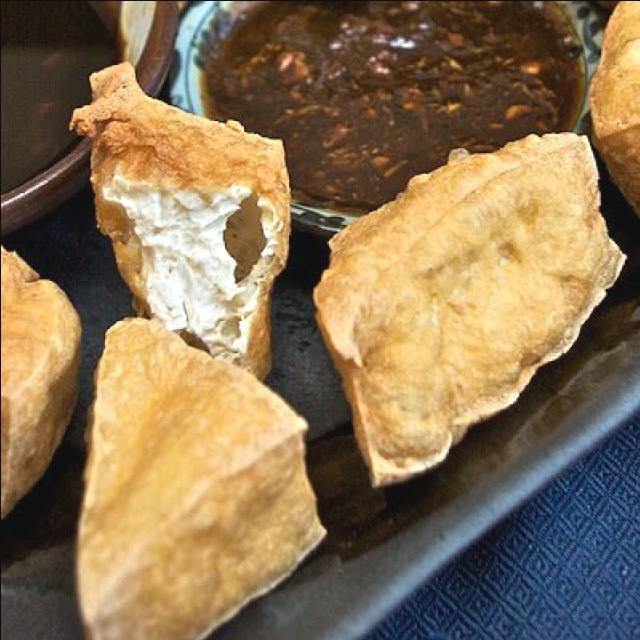tahu goreng: (312, 131, 627, 490), (74, 317, 326, 640), (69, 62, 291, 381)
